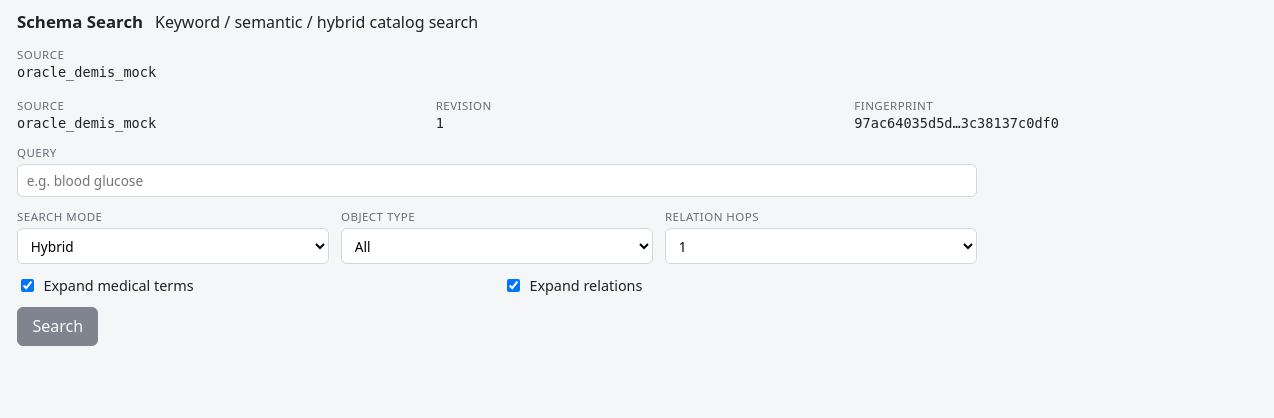
Test: SchemaSearch › shows embedding not configured guidance
Type "x" into the field with test id "search-query-input".
click(497, 180); type("x")  # box 17,164 -> 977,197
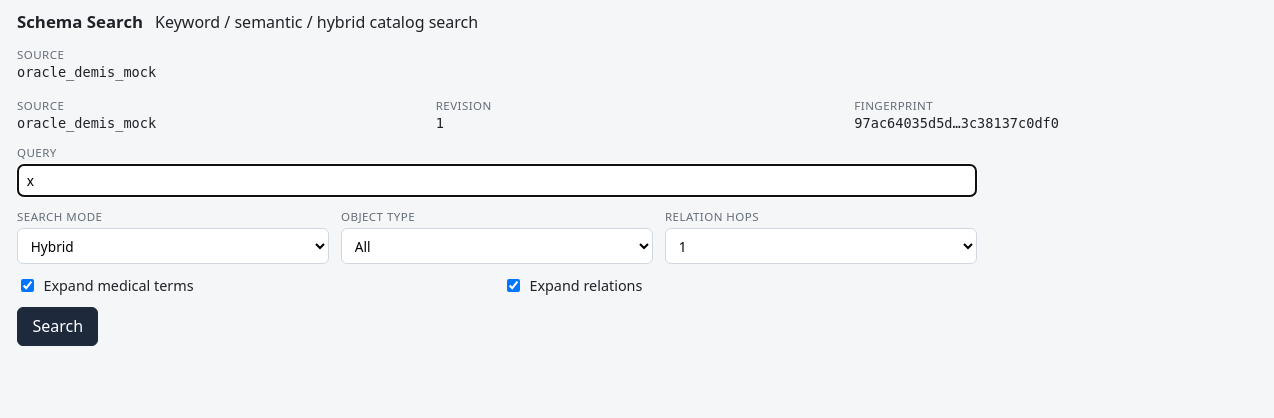
Click the button with test id "search-submit".
click(58, 326)  # box 17,307 -> 98,346
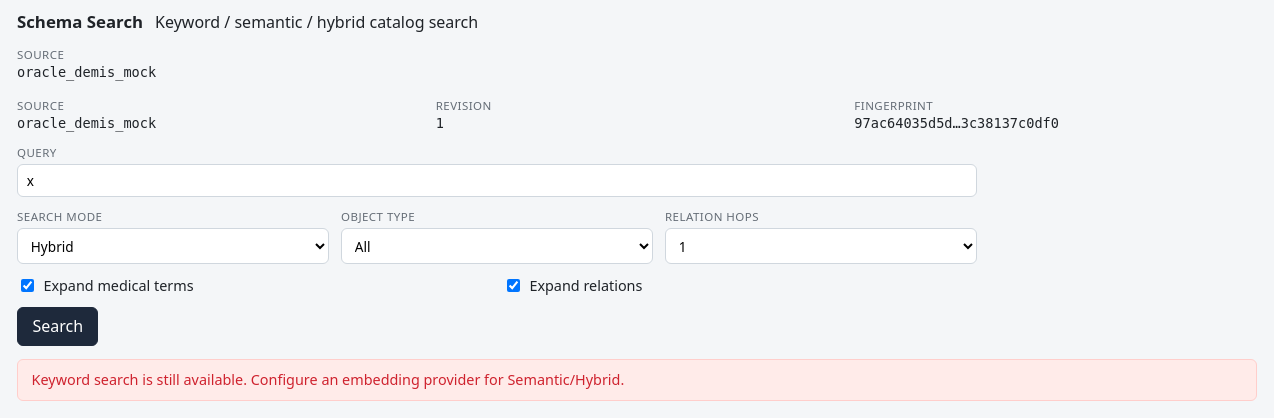
Check: the text with test id "search-error" shows "Keyword search is still available", box 32,370 -> 624,390
